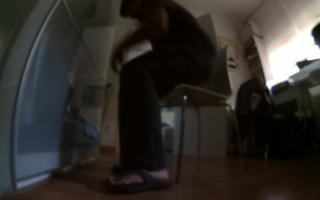person: (95, 1, 219, 198)
